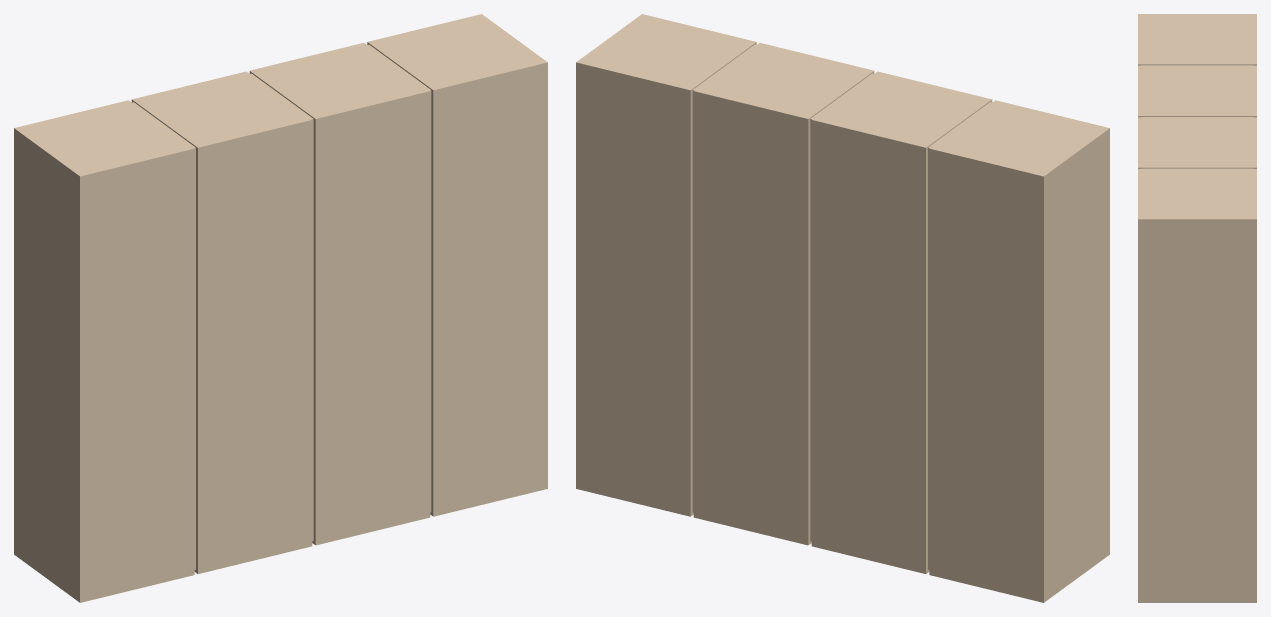
The model's file is Wardrobe.fbx.
3 views of the same model, side by side, from view 1: azimuth 30°, elevation 25°; view 2: azimuth 150°, elevation 25°; view 3: azimuth 270°, elevation 25° (orthographic). The views are drawn at different scales.
Visible parts, largest first — view 1: Wardrobe; view 2: Wardrobe; view 3: Wardrobe.
Part boxes in pixels (x1,y1,x2,y2): Wardrobe: [14, 14, 547, 602]; Wardrobe: [576, 14, 1109, 602]; Wardrobe: [1138, 14, 1256, 602].
Bounding box in the file's own units: 64.15 × 228 × 262.
